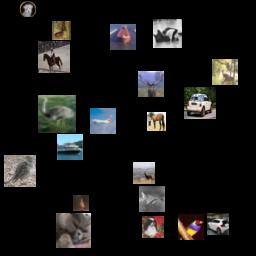airplane: (139, 186, 165, 212), (90, 108, 116, 134)
automobile: (184, 87, 216, 119), (207, 213, 229, 235)
bird: (38, 95, 76, 133), (4, 155, 36, 187), (178, 214, 204, 240), (73, 195, 89, 211)
cat: (56, 213, 91, 248), (153, 19, 182, 48)
deer: (212, 59, 238, 85), (138, 71, 164, 97), (133, 162, 155, 184), (52, 21, 71, 40)
dog: (142, 216, 164, 238), (20, 1, 36, 17)
ship: (110, 24, 136, 50), (57, 134, 83, 160)
